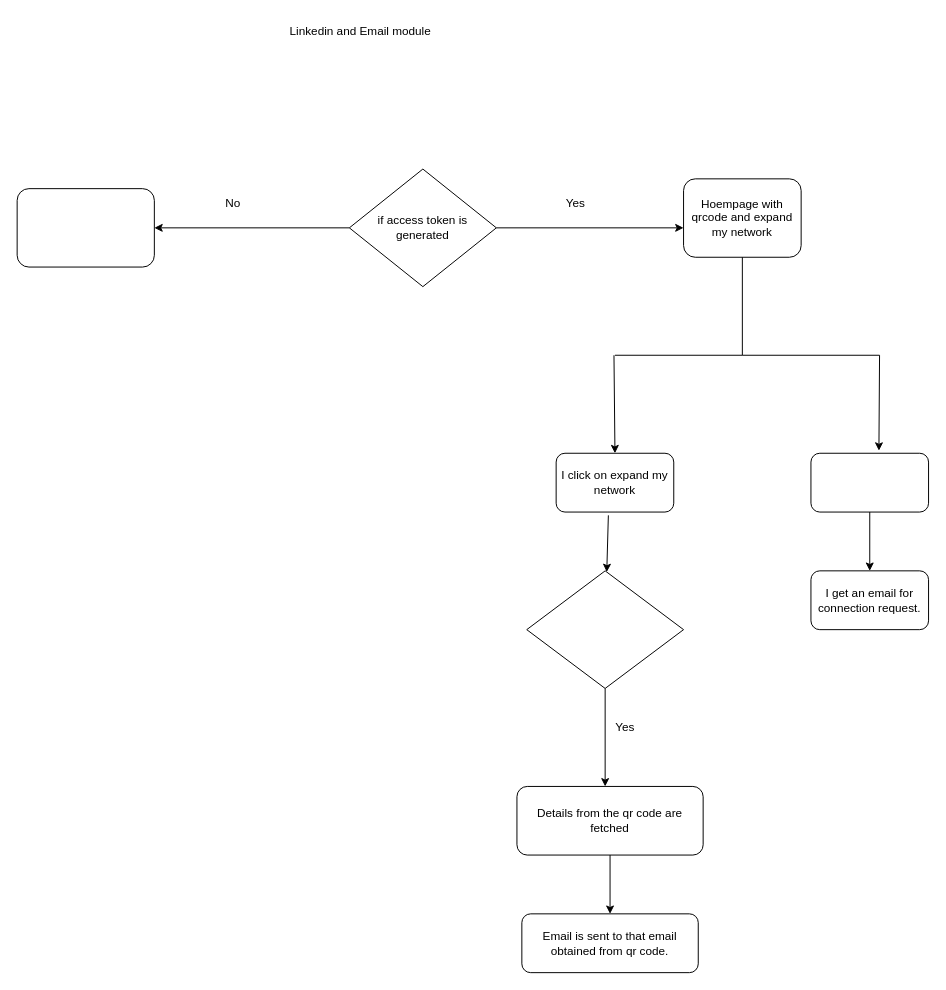
Some shapes in this 946 by 990 pixel diagram are drawn without their labels. Each missing label, with the centre of its shape:
"After login/registration" belongs at (x=85, y=227).
"Camera Permission" belongs at (x=605, y=629).
"I show my qr code" belongs at (x=869, y=482).
